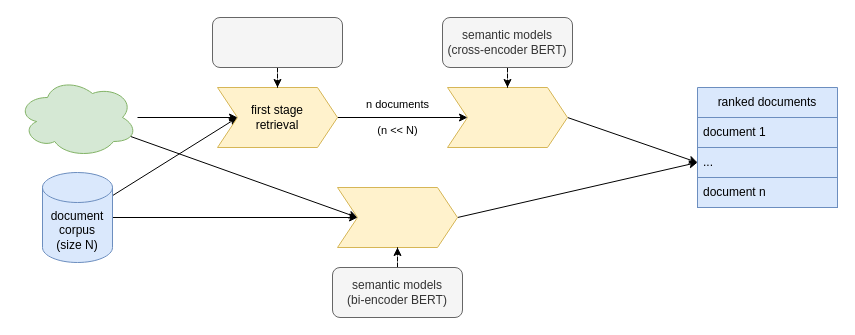
Some shapes in this 855 by 335 pixel diagram are drawn without their labels. The centre of each missing label's shape, as x and y in pixels:
"query" belongs at point (77, 117).
"re-ranking" belongs at point (507, 117).
"single stage retrieval" belongs at point (397, 217).
"traditional IR models (BM25)" belongs at point (277, 42).
